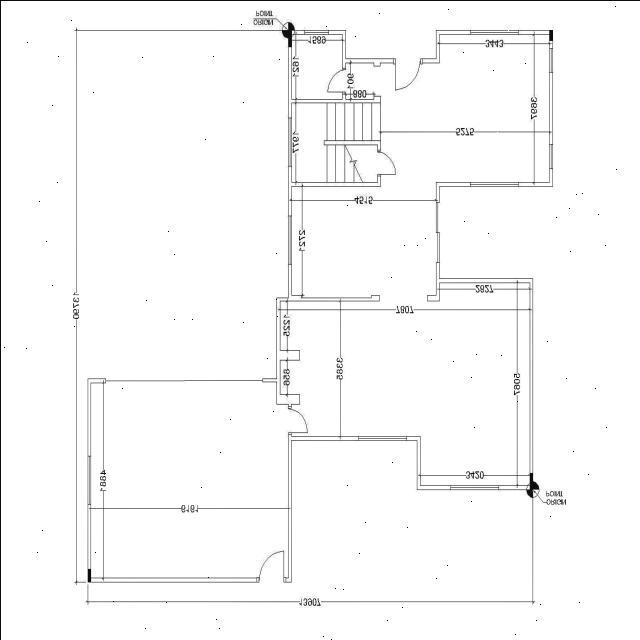Column: (287, 29, 291, 46), (86, 568, 90, 582), (529, 472, 532, 489), (548, 29, 552, 40)
Door: (392, 58, 422, 90), (256, 550, 285, 582), (287, 406, 307, 434), (327, 67, 345, 93), (376, 150, 394, 176)
Sliding Door: (435, 202, 439, 262)
Staircase: (291, 102, 377, 182)
Window: (470, 29, 518, 34), (358, 436, 406, 440), (450, 485, 498, 489), (470, 182, 518, 186), (287, 117, 291, 165), (287, 215, 291, 263), (87, 455, 90, 504), (304, 29, 328, 34), (548, 144, 552, 168), (548, 48, 552, 72)
